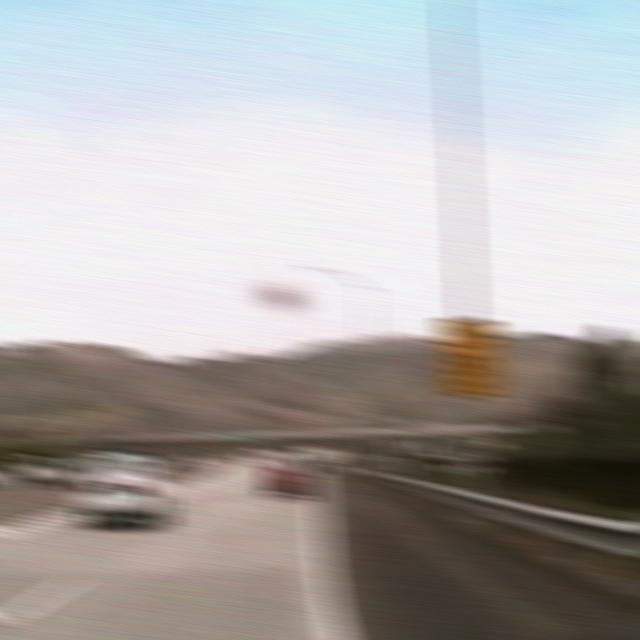speedLimit50: (440, 315, 500, 398)
